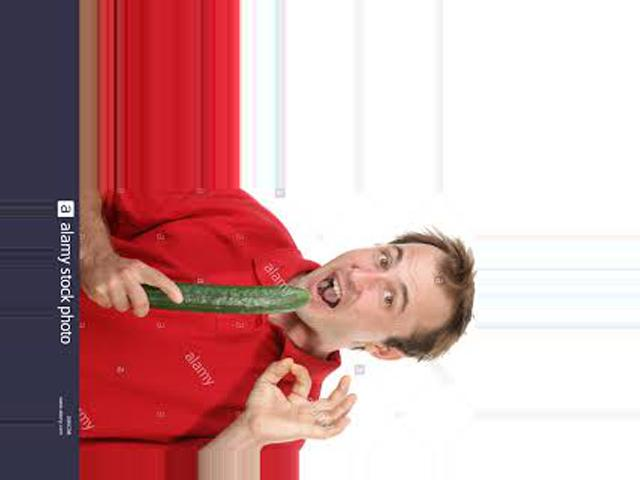cucumber: (143, 286, 308, 310)
